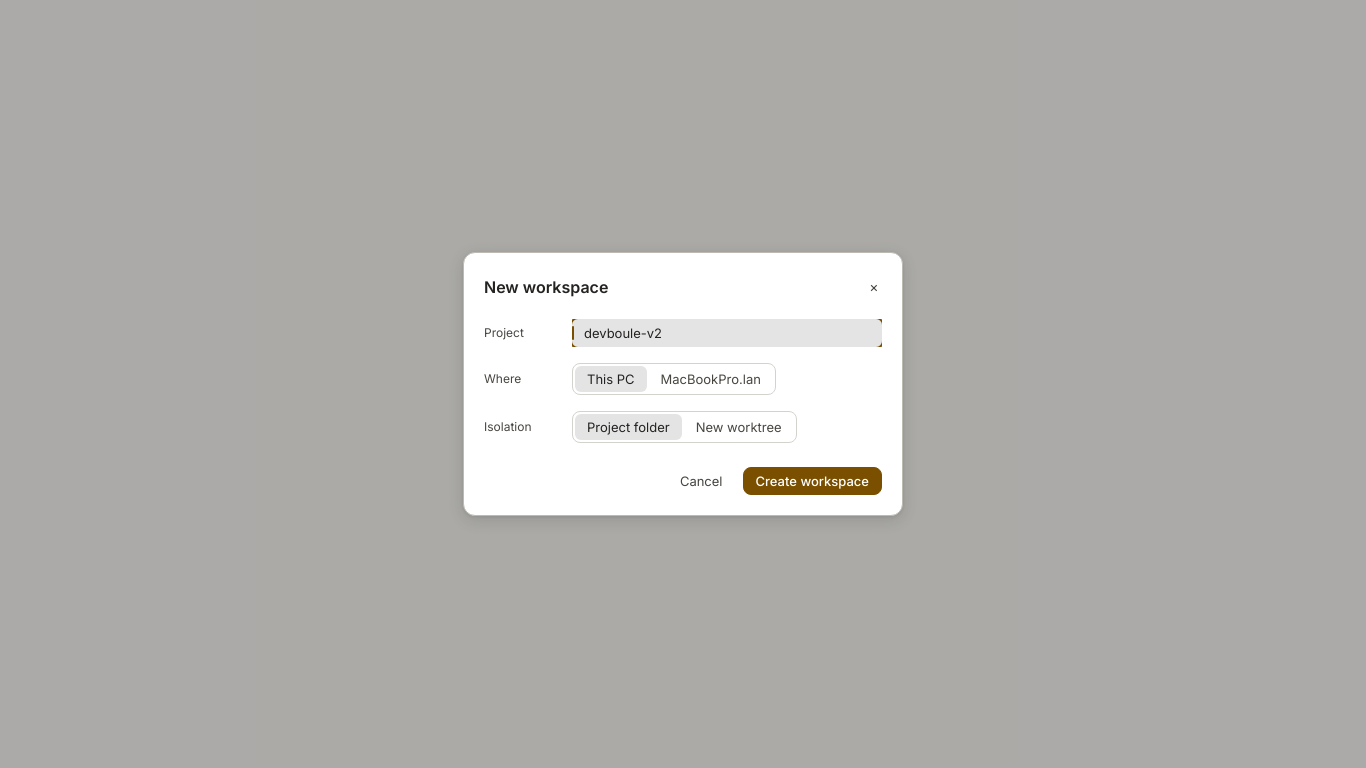
Test: what the sheet sends › says so when the chosen host lists no project, and creates nothing
Click the radio button labelled "MacBookPro.lan". click: (711,379)
box: [648, 366, 773, 392]
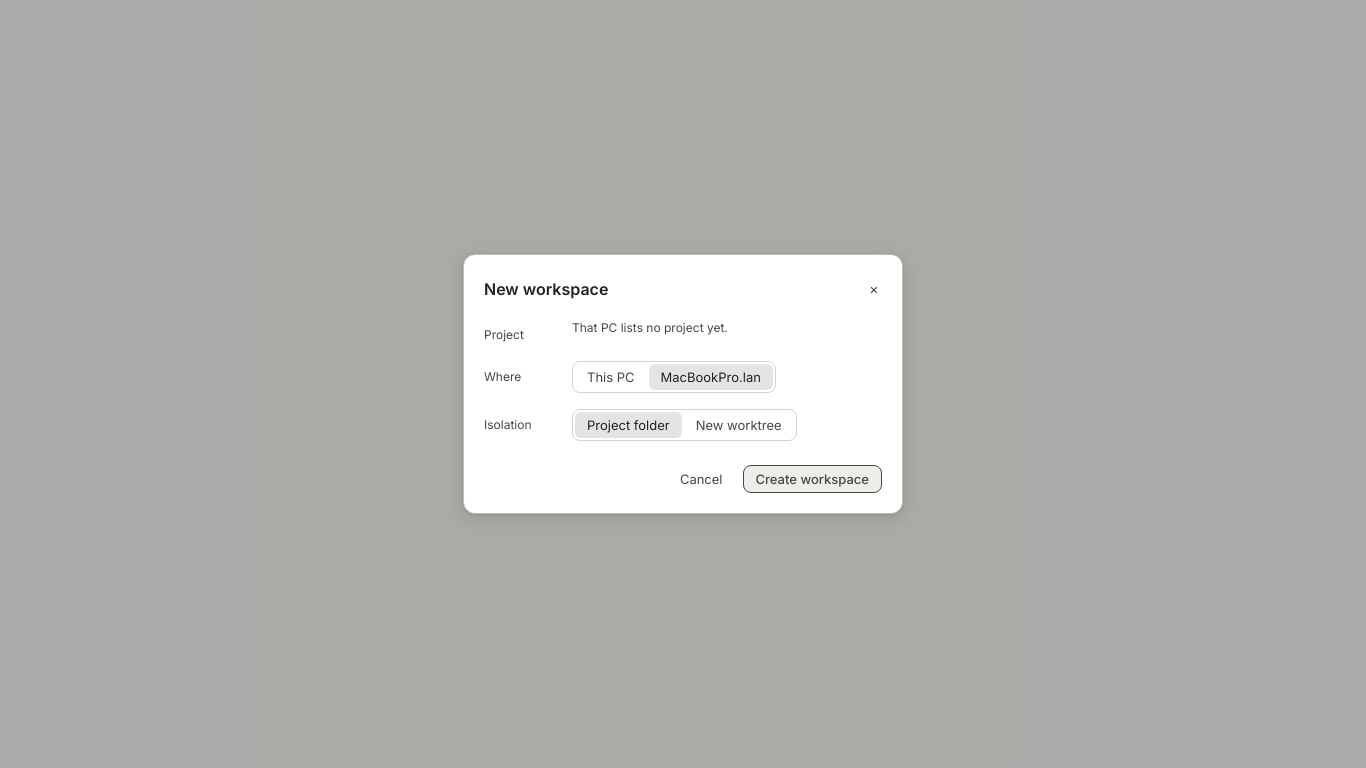
Expected: the button "Create workspace" is disabled, [742, 465, 882, 493]
Expected: the text "That PC lists no project yet." is shown, [572, 320, 728, 335]
